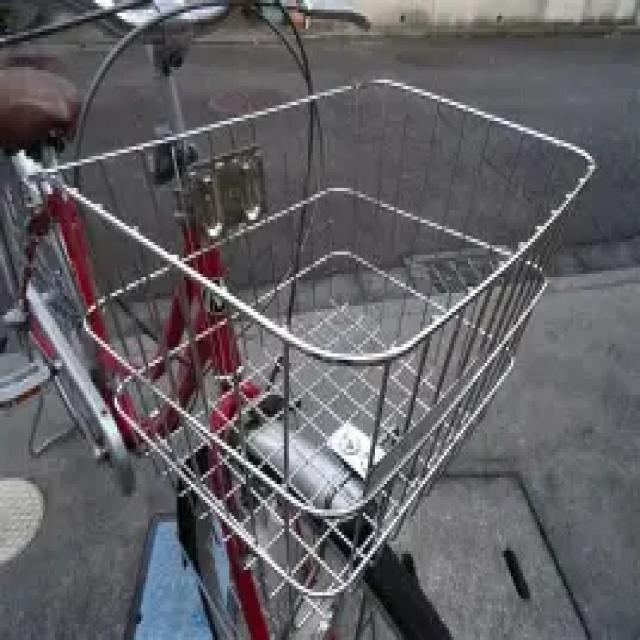basket: (32, 69, 594, 628)
